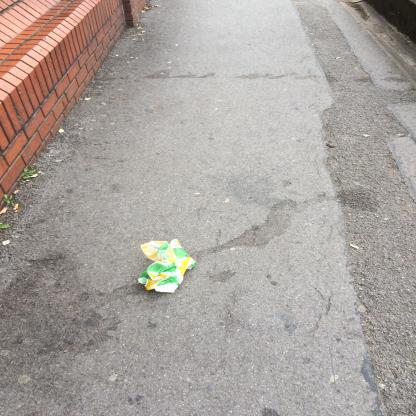plastik: (138, 240, 198, 295)
